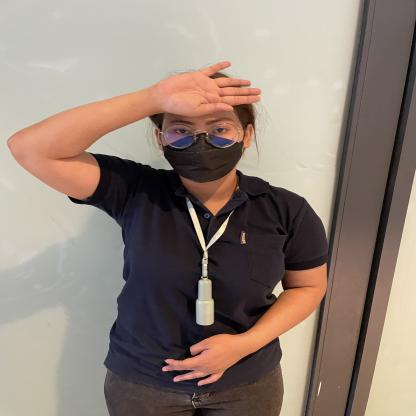Sick: (5, 60, 264, 221)
